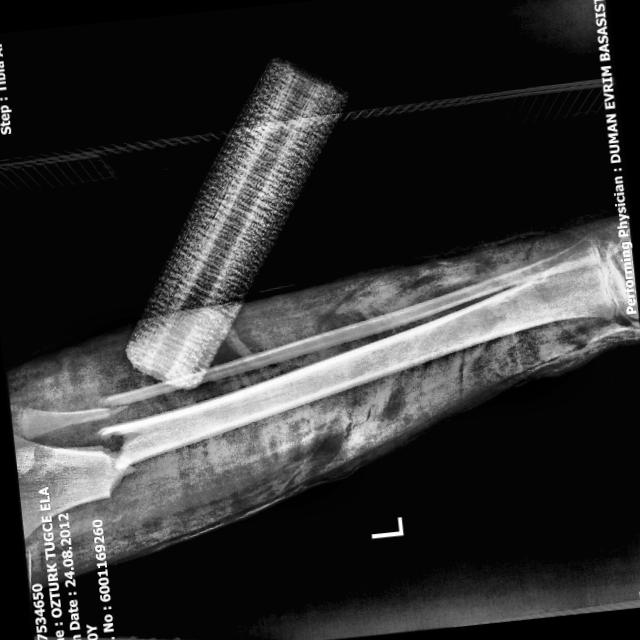Fracture: (88, 419, 148, 504), (83, 390, 135, 420)
